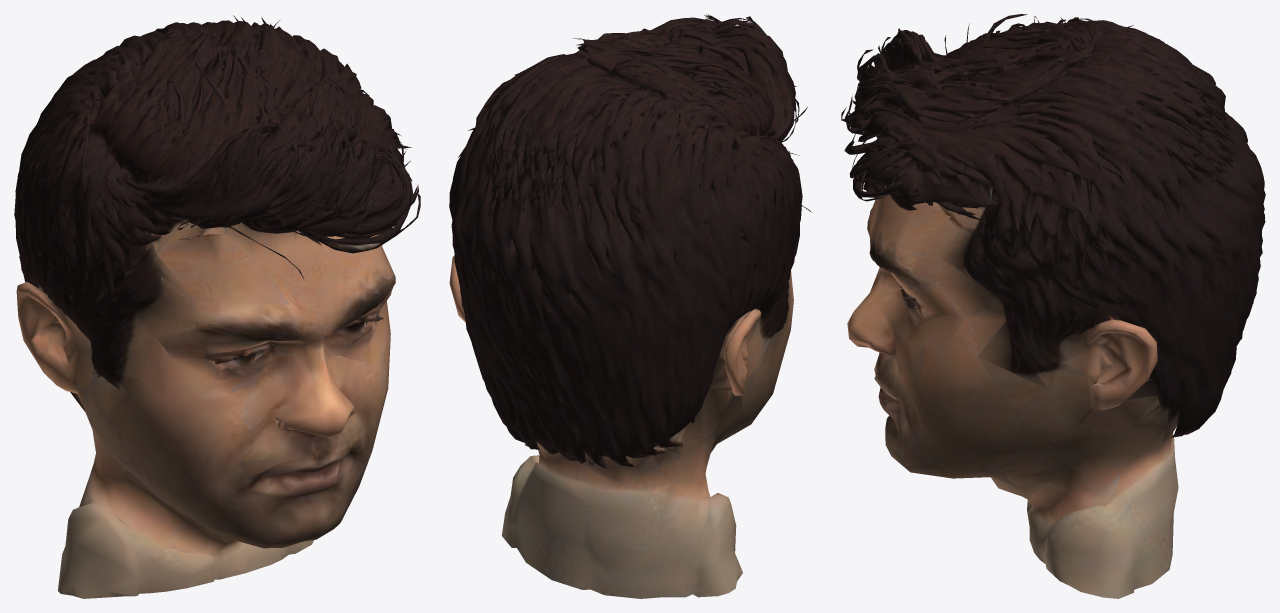
File: head_kanishka.glb
3 renders of one model, left to right at view 1: azimuth 30°, elevation 25°; view 2: azimuth 150°, elevation 25°; view 3: azimuth 270°, elevation 25°, orthographic. The views are drawn at different scales.
Parts seen in each view (by area): view 1: Mesh_0; view 2: Mesh_0; view 3: Mesh_0.
Boxes of the visible parts, x1,y1,x2,y2 form: Mesh_0: [14, 15, 420, 598]; Mesh_0: [449, 14, 811, 598]; Mesh_0: [841, 14, 1265, 598].
Bounding box in the file's own units: 0.8732 × 1.33 × 0.9736.
1 material, 1 textured.
